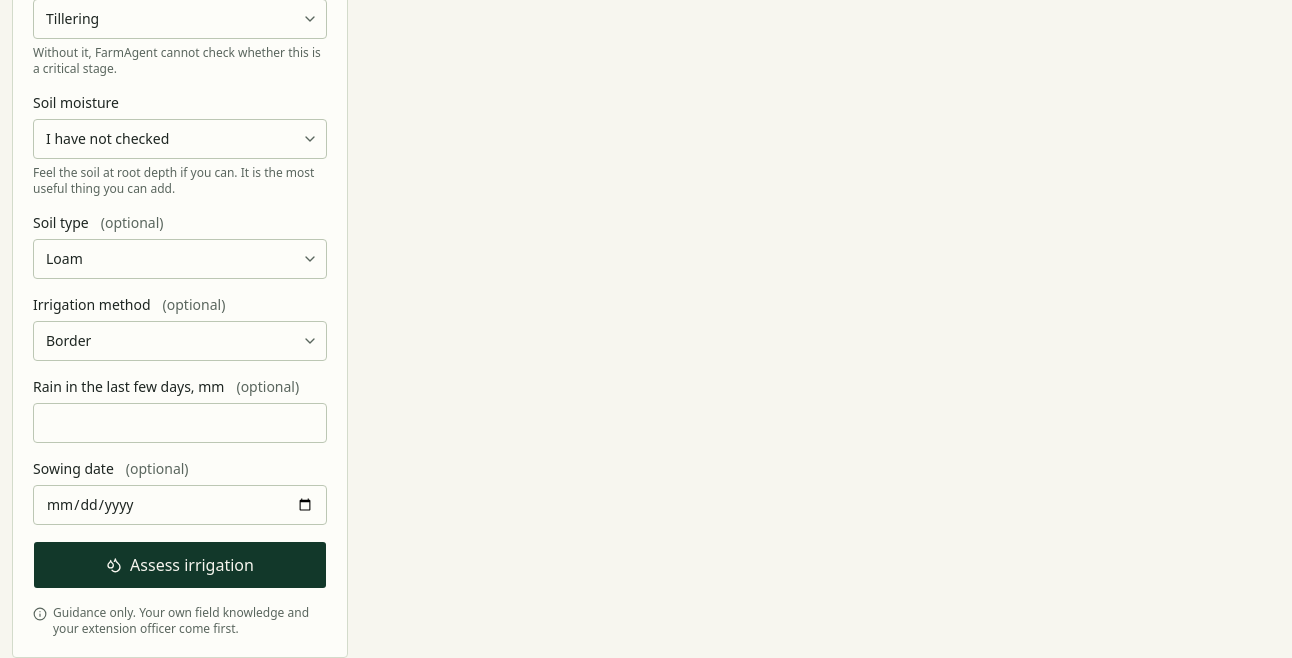
Test case: IrrigationPage › shows a failure with a working retry
Later steps or results of the test are not shown.
(page scrolled)
Click the button "Assess irrigation".
click(180, 565)  # box [33,541,327,589]
(page scrolled)
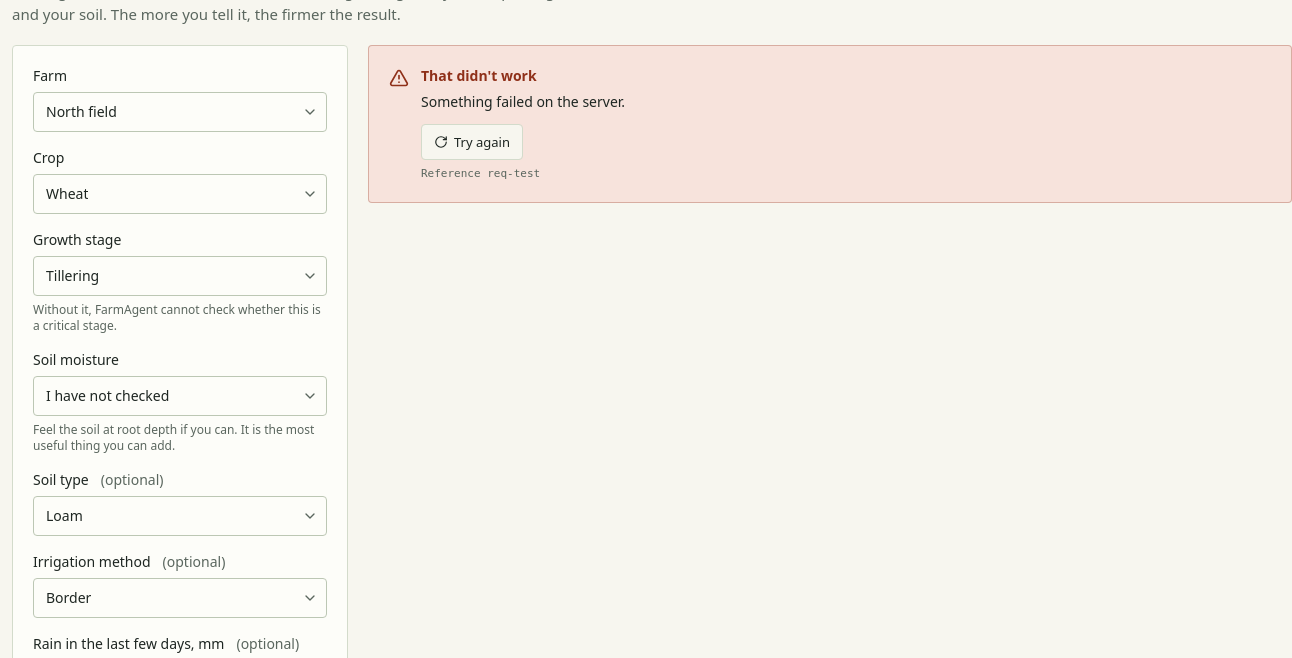
Check: the message shows "Something failed on the server.", box [421,92,625,111]
